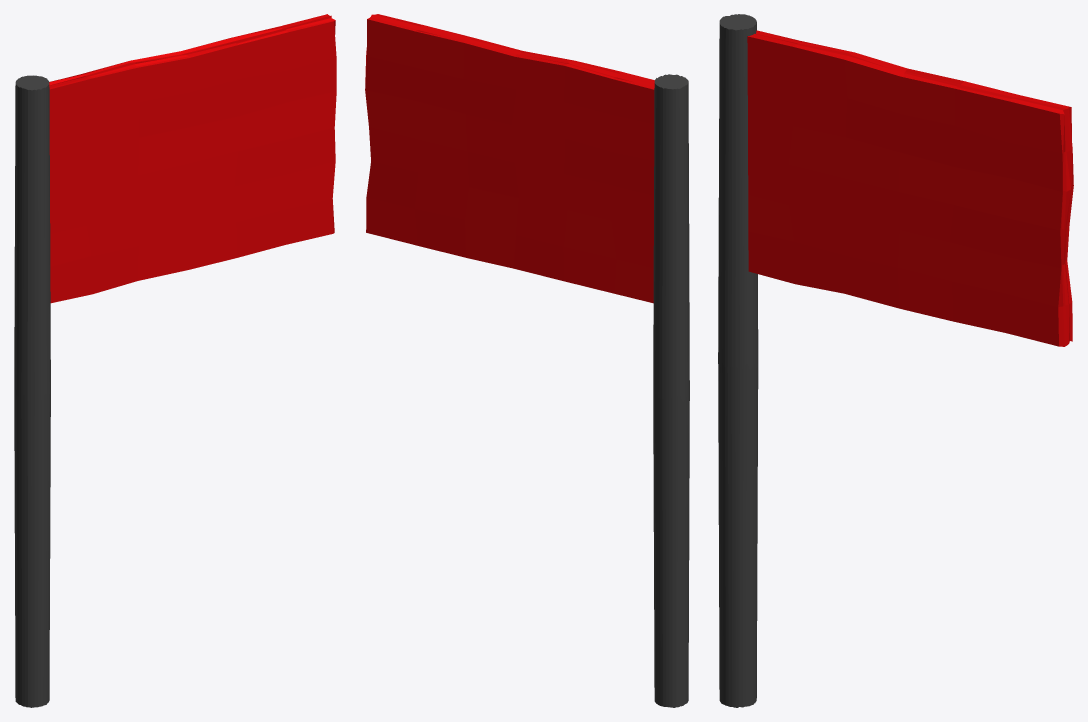
Rendered from redflag.fbx.
3 renders of one model, left to right at view 1: azimuth 30°, elevation 25°; view 2: azimuth 150°, elevation 25°; view 3: azimuth 330°, elevation 25°, orthographic. The views are drawn at different scales.
Visible parts, largest first — view 1: Cube, Cylinder; view 2: Cube, Cylinder; view 3: Cube, Cylinder.
Boxes of the visible parts, bbox=[...] form: Cube: bbox=[49, 14, 336, 303]; Cylinder: bbox=[14, 75, 50, 707]; Cube: bbox=[365, 14, 654, 303]; Cylinder: bbox=[653, 74, 689, 707]; Cube: bbox=[747, 30, 1073, 346]; Cylinder: bbox=[718, 14, 758, 707].
Bounding box in the file's own units: 217 × 401 × 21.73.
